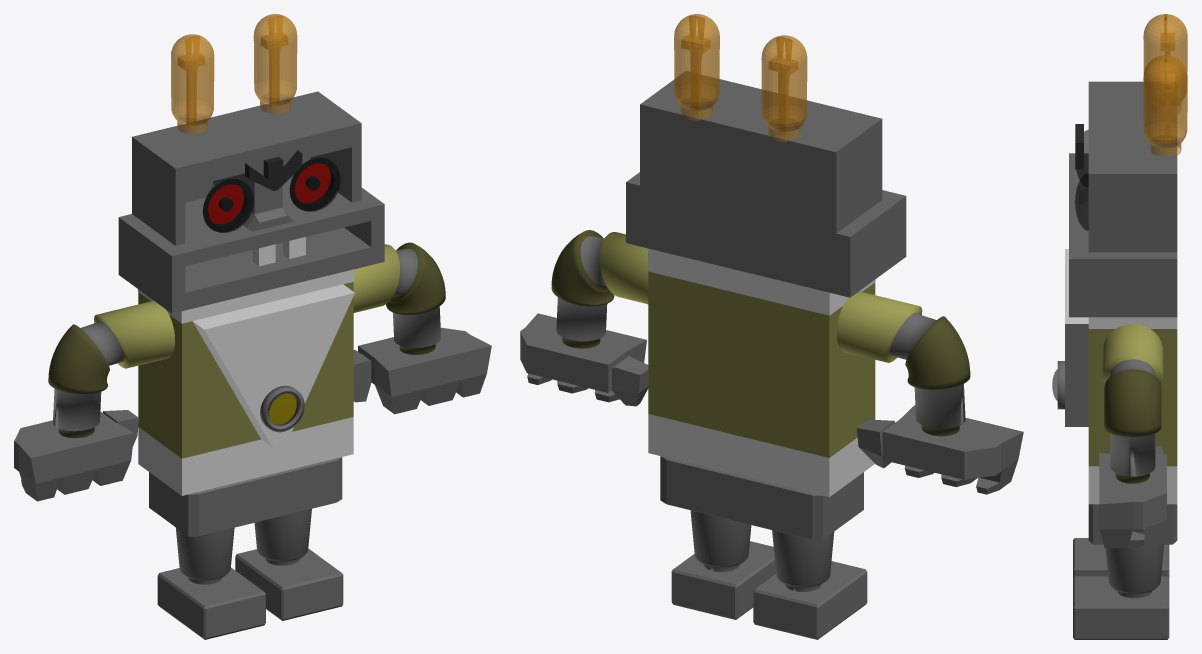
Rendered from Заяц для WaE.fbx.
3 renders of one model, left to right at view 1: azimuth 30°, elevation 25°; view 2: azimuth 150°, elevation 25°; view 3: azimuth 270°, elevation 25°, orthographic. The views are drawn at different scales.
Parts seen in each view (by area): view 1: Cube.002, Cube, Circle.001, Cube.001, Circle.003, Cube.003, Cube.004, Circle.002, Circle, Sphere.001, Sphere, Sphere.004 (+6 smaller); view 2: Cube.002, Cube, Circle.001, Cube.001, Circle.003, Cube.004, Circle, Circle.002, Cube.003, Sphere.001, Sphere; view 3: Cube.002, Cube, Circle, Circle.002, Cube.003, Sphere, Sphere.001, Circle.003, Cube.001, Sphere.002, Cube.007, Circle.004 (+1 smaller).
Boxes of the visible parts, <box> form: Cube.002: <box>118,91,384,313</box>; Cube: <box>138,269,354,495</box>; Circle.001: <box>48,300,174,438</box>; Cube.001: <box>149,457,342,536</box>; Circle.003: <box>157,527,265,639</box>; Cube.003: <box>353,327,491,414</box>; Cube.004: <box>14,410,138,501</box>; Circle.002: <box>235,509,343,620</box>; Circle: <box>353,242,445,354</box>; Sphere.001: <box>171,34,214,133</box>; Sphere: <box>253,14,297,113</box>; Sphere.004: <box>203,179,253,232</box>; Cube.002: <box>626,71,906,297</box>; Cube: <box>648,248,875,497</box>; Circle.001: <box>836,291,970,436</box>; Cube.001: <box>660,456,863,540</box>; Circle.003: <box>753,530,867,639</box>; Cube.004: <box>857,405,1023,494</box>; Circle: <box>551,230,648,348</box>; Circle.002: <box>671,510,775,619</box>; Cube.003: <box>520,313,648,406</box>; Sphere.001: <box>761,35,807,141</box>; Sphere: <box>674,14,719,120</box>; Cube.002: <box>1069,81,1177,317</box>; Cube: <box>1065,249,1177,504</box>; Circle: <box>1102,324,1163,483</box>; Circle.002: <box>1073,544,1169,639</box>; Cube.003: <box>1099,446,1166,548</box>; Sphere: <box>1143,55,1187,156</box>; Sphere.001: <box>1143,14,1187,107</box>; Circle.003: <box>1073,538,1169,577</box>; Cube.001: <box>1088,504,1177,544</box>; Sphere.002: <box>1075,173,1088,230</box>; Cube.007: <box>1075,124,1083,169</box>; Circle.004: <box>1057,361,1064,409</box>.
Size of the model in its own units: 1221 by 1425 by 306.
